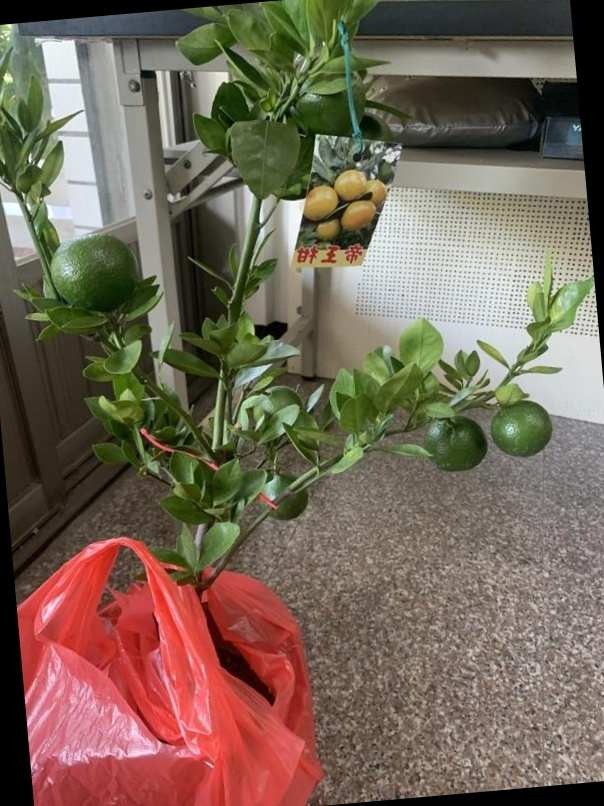Tangerine: (46, 232, 142, 316), (493, 397, 554, 459), (426, 413, 487, 472)
